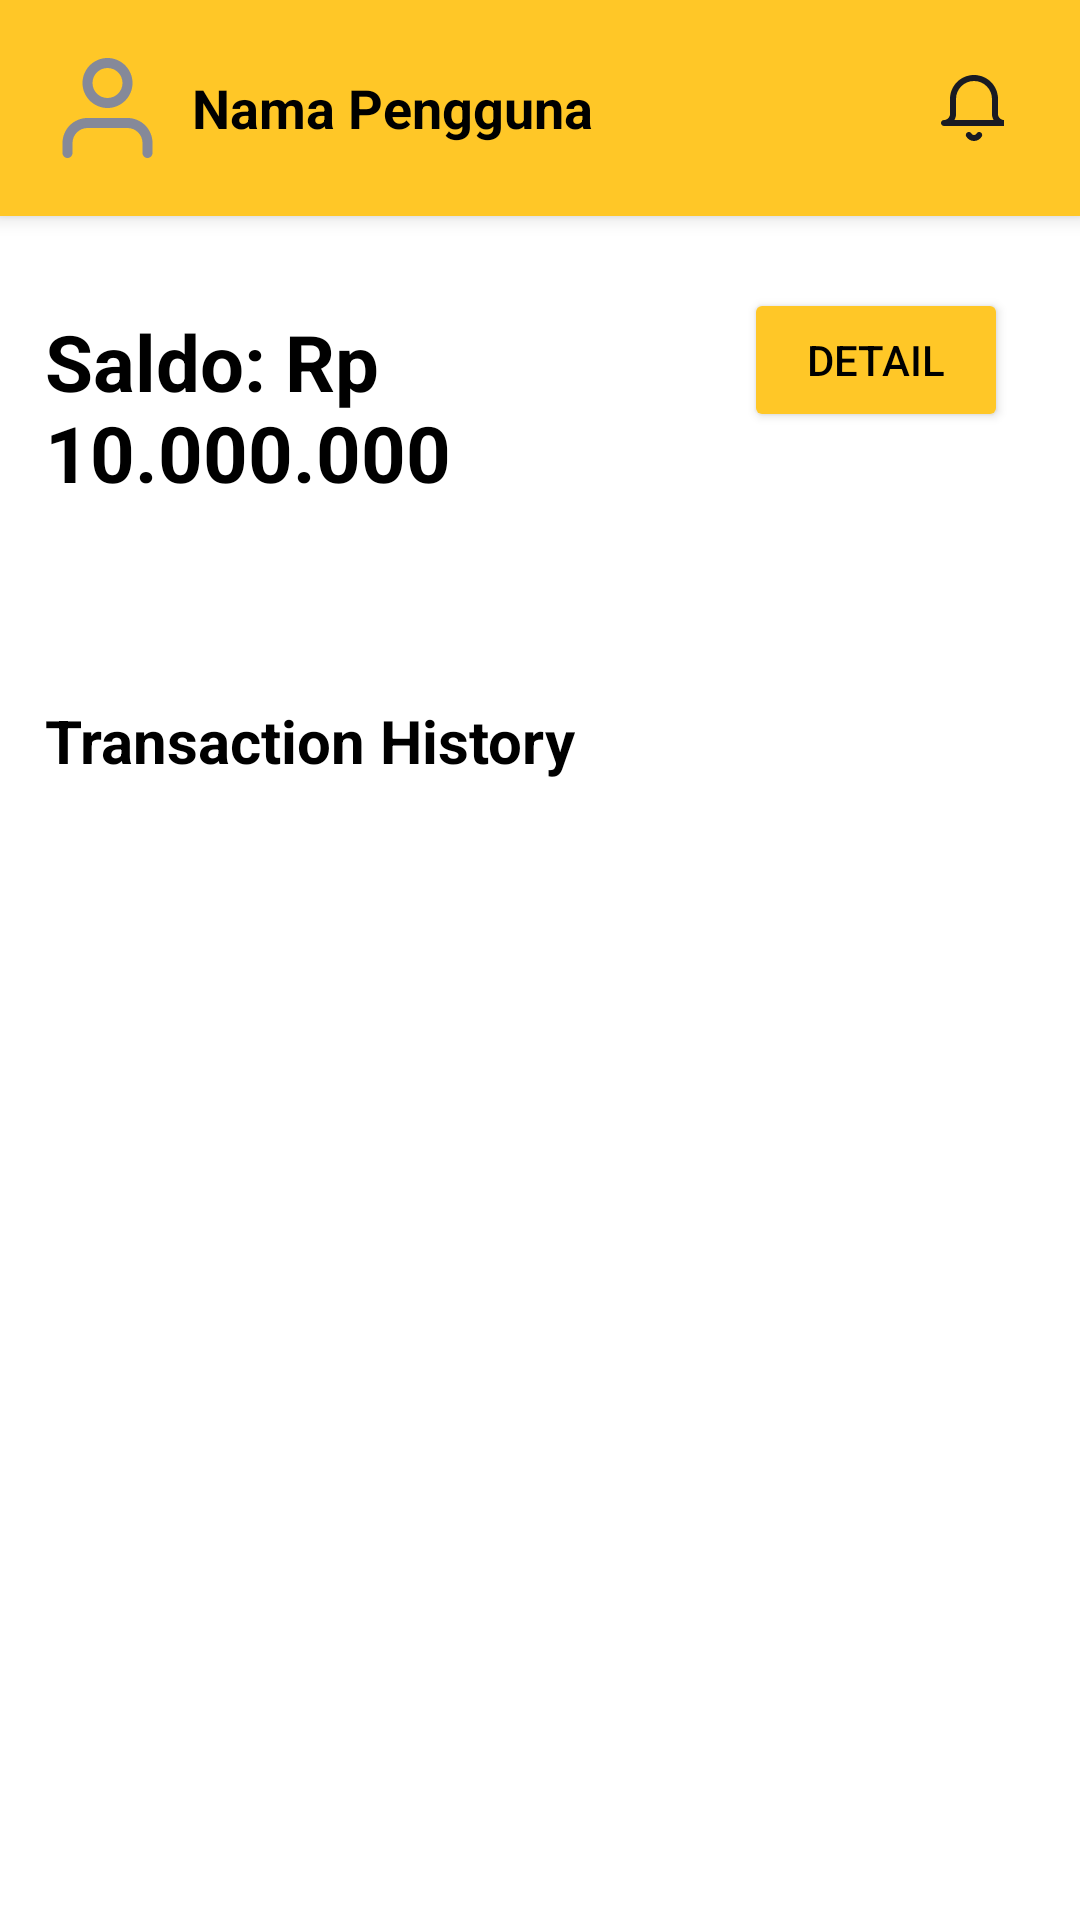

Where to tap for icons on this 1080px x 1920px app screen, as (x=x, y=y):
Notifikasi: (x=972, y=108)
Profile Image: (x=107, y=108)
